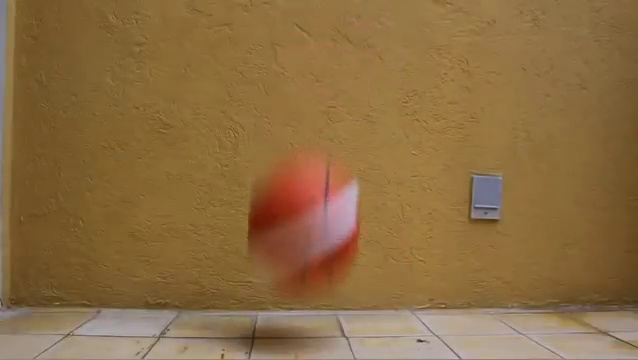ball: (248, 148, 364, 300)
